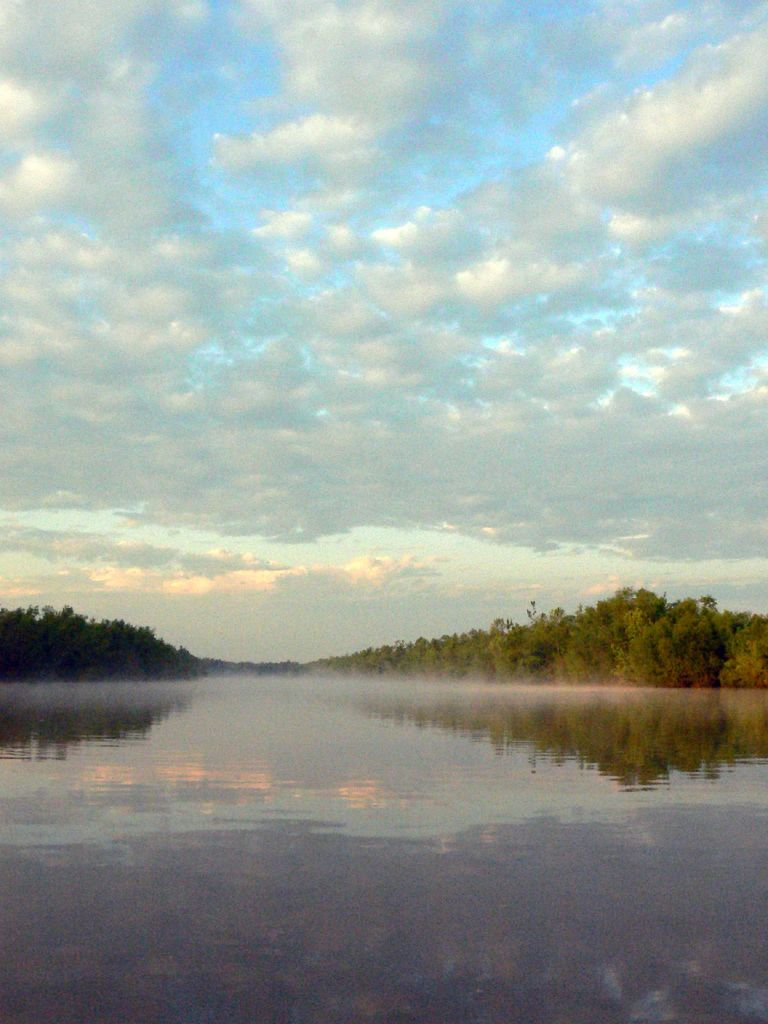Tree: (321, 574, 767, 684)
